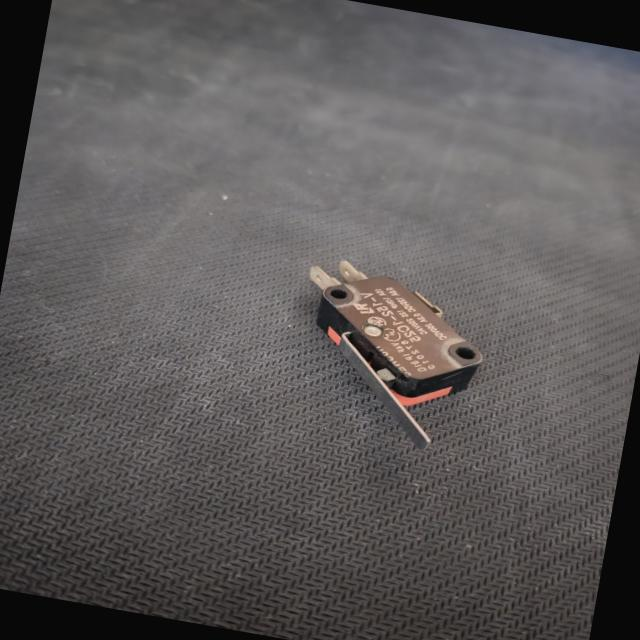switch: (272, 239, 509, 459)
